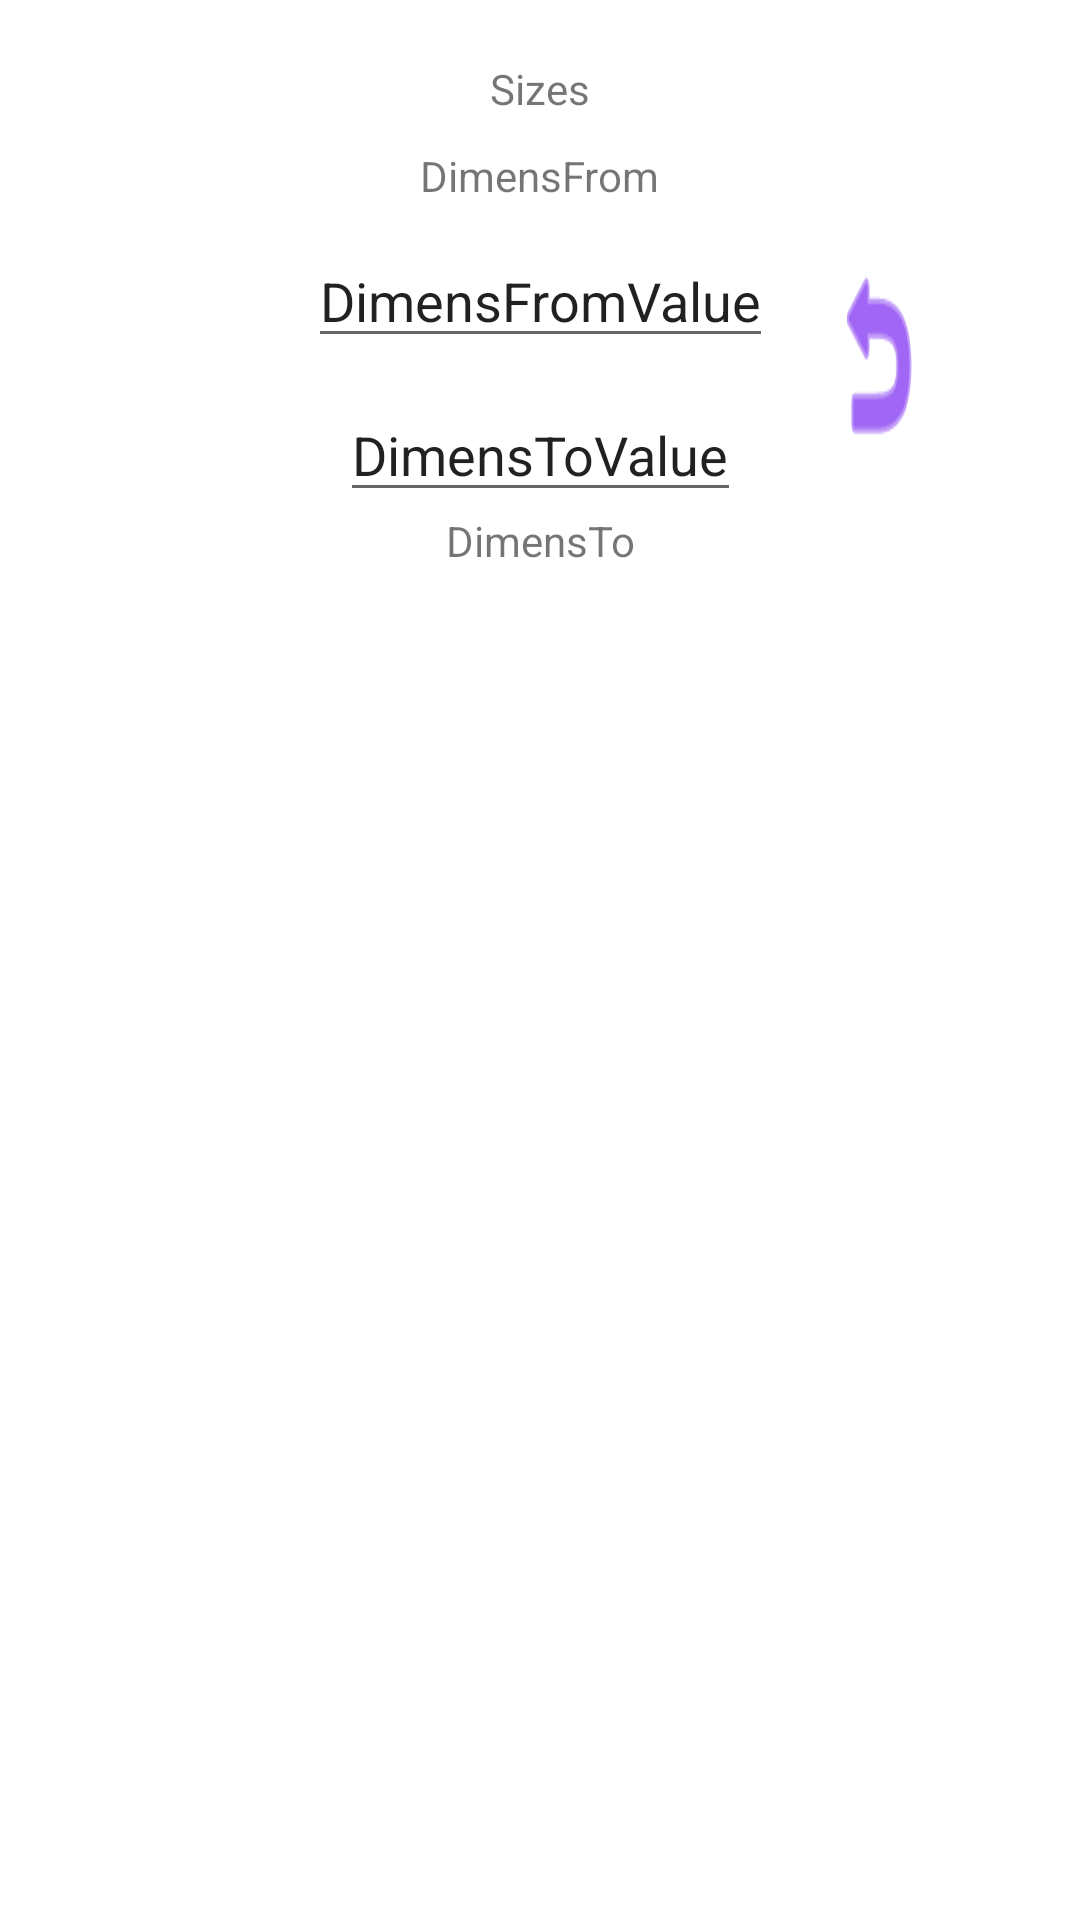

Icons on this 1080x1920 Android screen, each with the point to tap as (x=x, y=y):
revert: (x=879, y=355)
